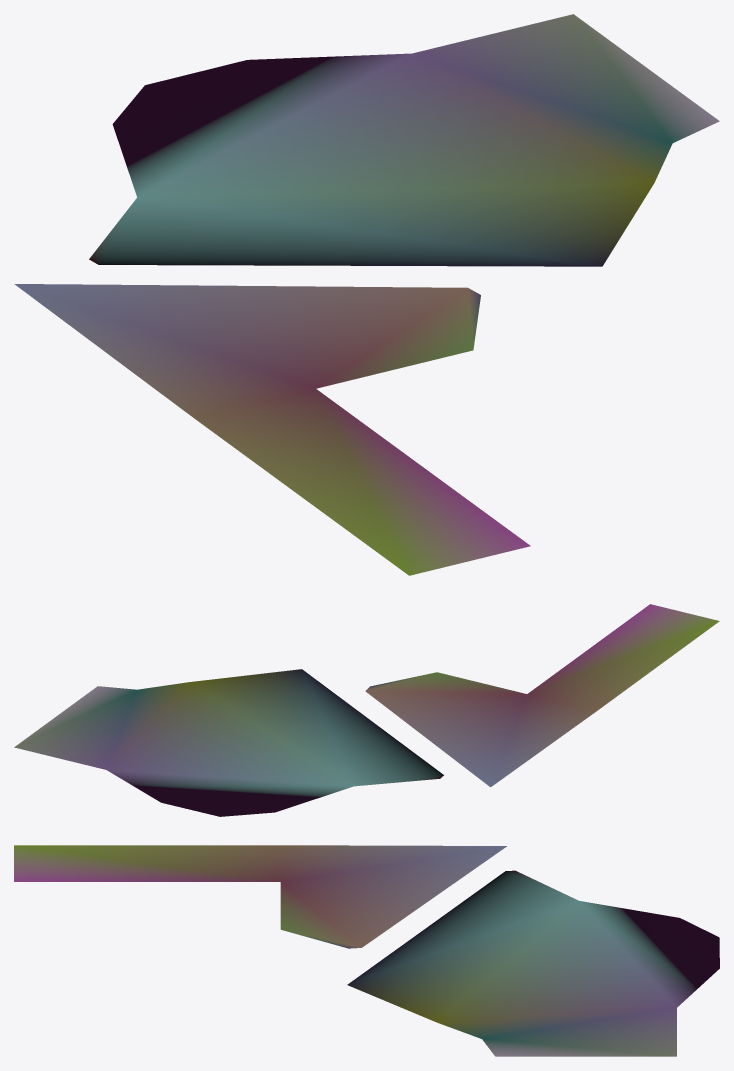
Rendered from CS_Grounds_Grass01.gltf.
3 views of the same model, one above another, from view 1: azimuth 30°, elevation 25°; view 2: azimuth 150°, elevation 25°; view 3: azimuth 270°, elevation 25° (orthographic). The views are drawn at different scales.
Visible parts, largest first — view 1: CS_Grounds_Grass01; view 2: CS_Grounds_Grass01; view 3: CS_Grounds_Grass01.
Boxes of the visible parts, x1,y1,x2,y2 form: CS_Grounds_Grass01: (14, 14, 719, 575); CS_Grounds_Grass01: (14, 604, 719, 816); CS_Grounds_Grass01: (14, 845, 719, 1056).
Bounding box in the file's own units: 62.75 × 1.19e-07 × 88.52.
